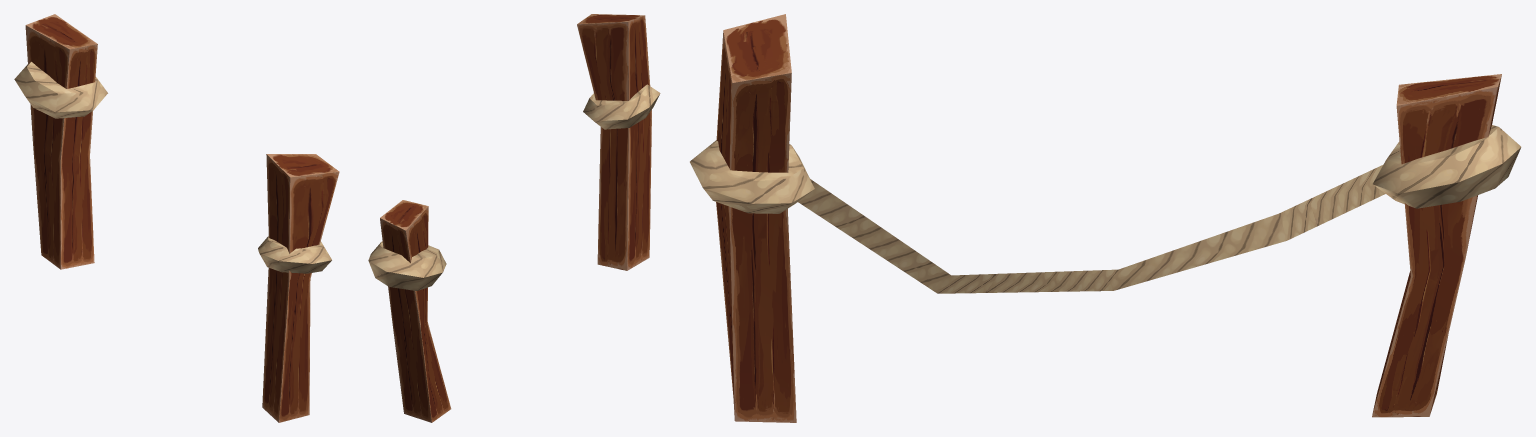
File: barriere-ficelle-double-1.glb
The picture shows the model from 3 angles, left to right: view 1: azimuth 30°, elevation 25°; view 2: azimuth 150°, elevation 25°; view 3: azimuth 270°, elevation 25°; orthographic projection. The views are drawn at different scales.
Parts seen in each view (by area): view 1: SM_PROP_railing_v03_01; view 2: SM_PROP_railing_v03_01; view 3: SM_PROP_railing_v03_01.
Part boxes in pixels (bbox=[...]): SM_PROP_railing_v03_01: bbox=[14, 14, 339, 422]; SM_PROP_railing_v03_01: bbox=[368, 14, 660, 422]; SM_PROP_railing_v03_01: bbox=[690, 14, 1521, 422].
Size of the model in its own units: 0.341 by 1.03 by 2.01.
2 materials, 2 textured.
